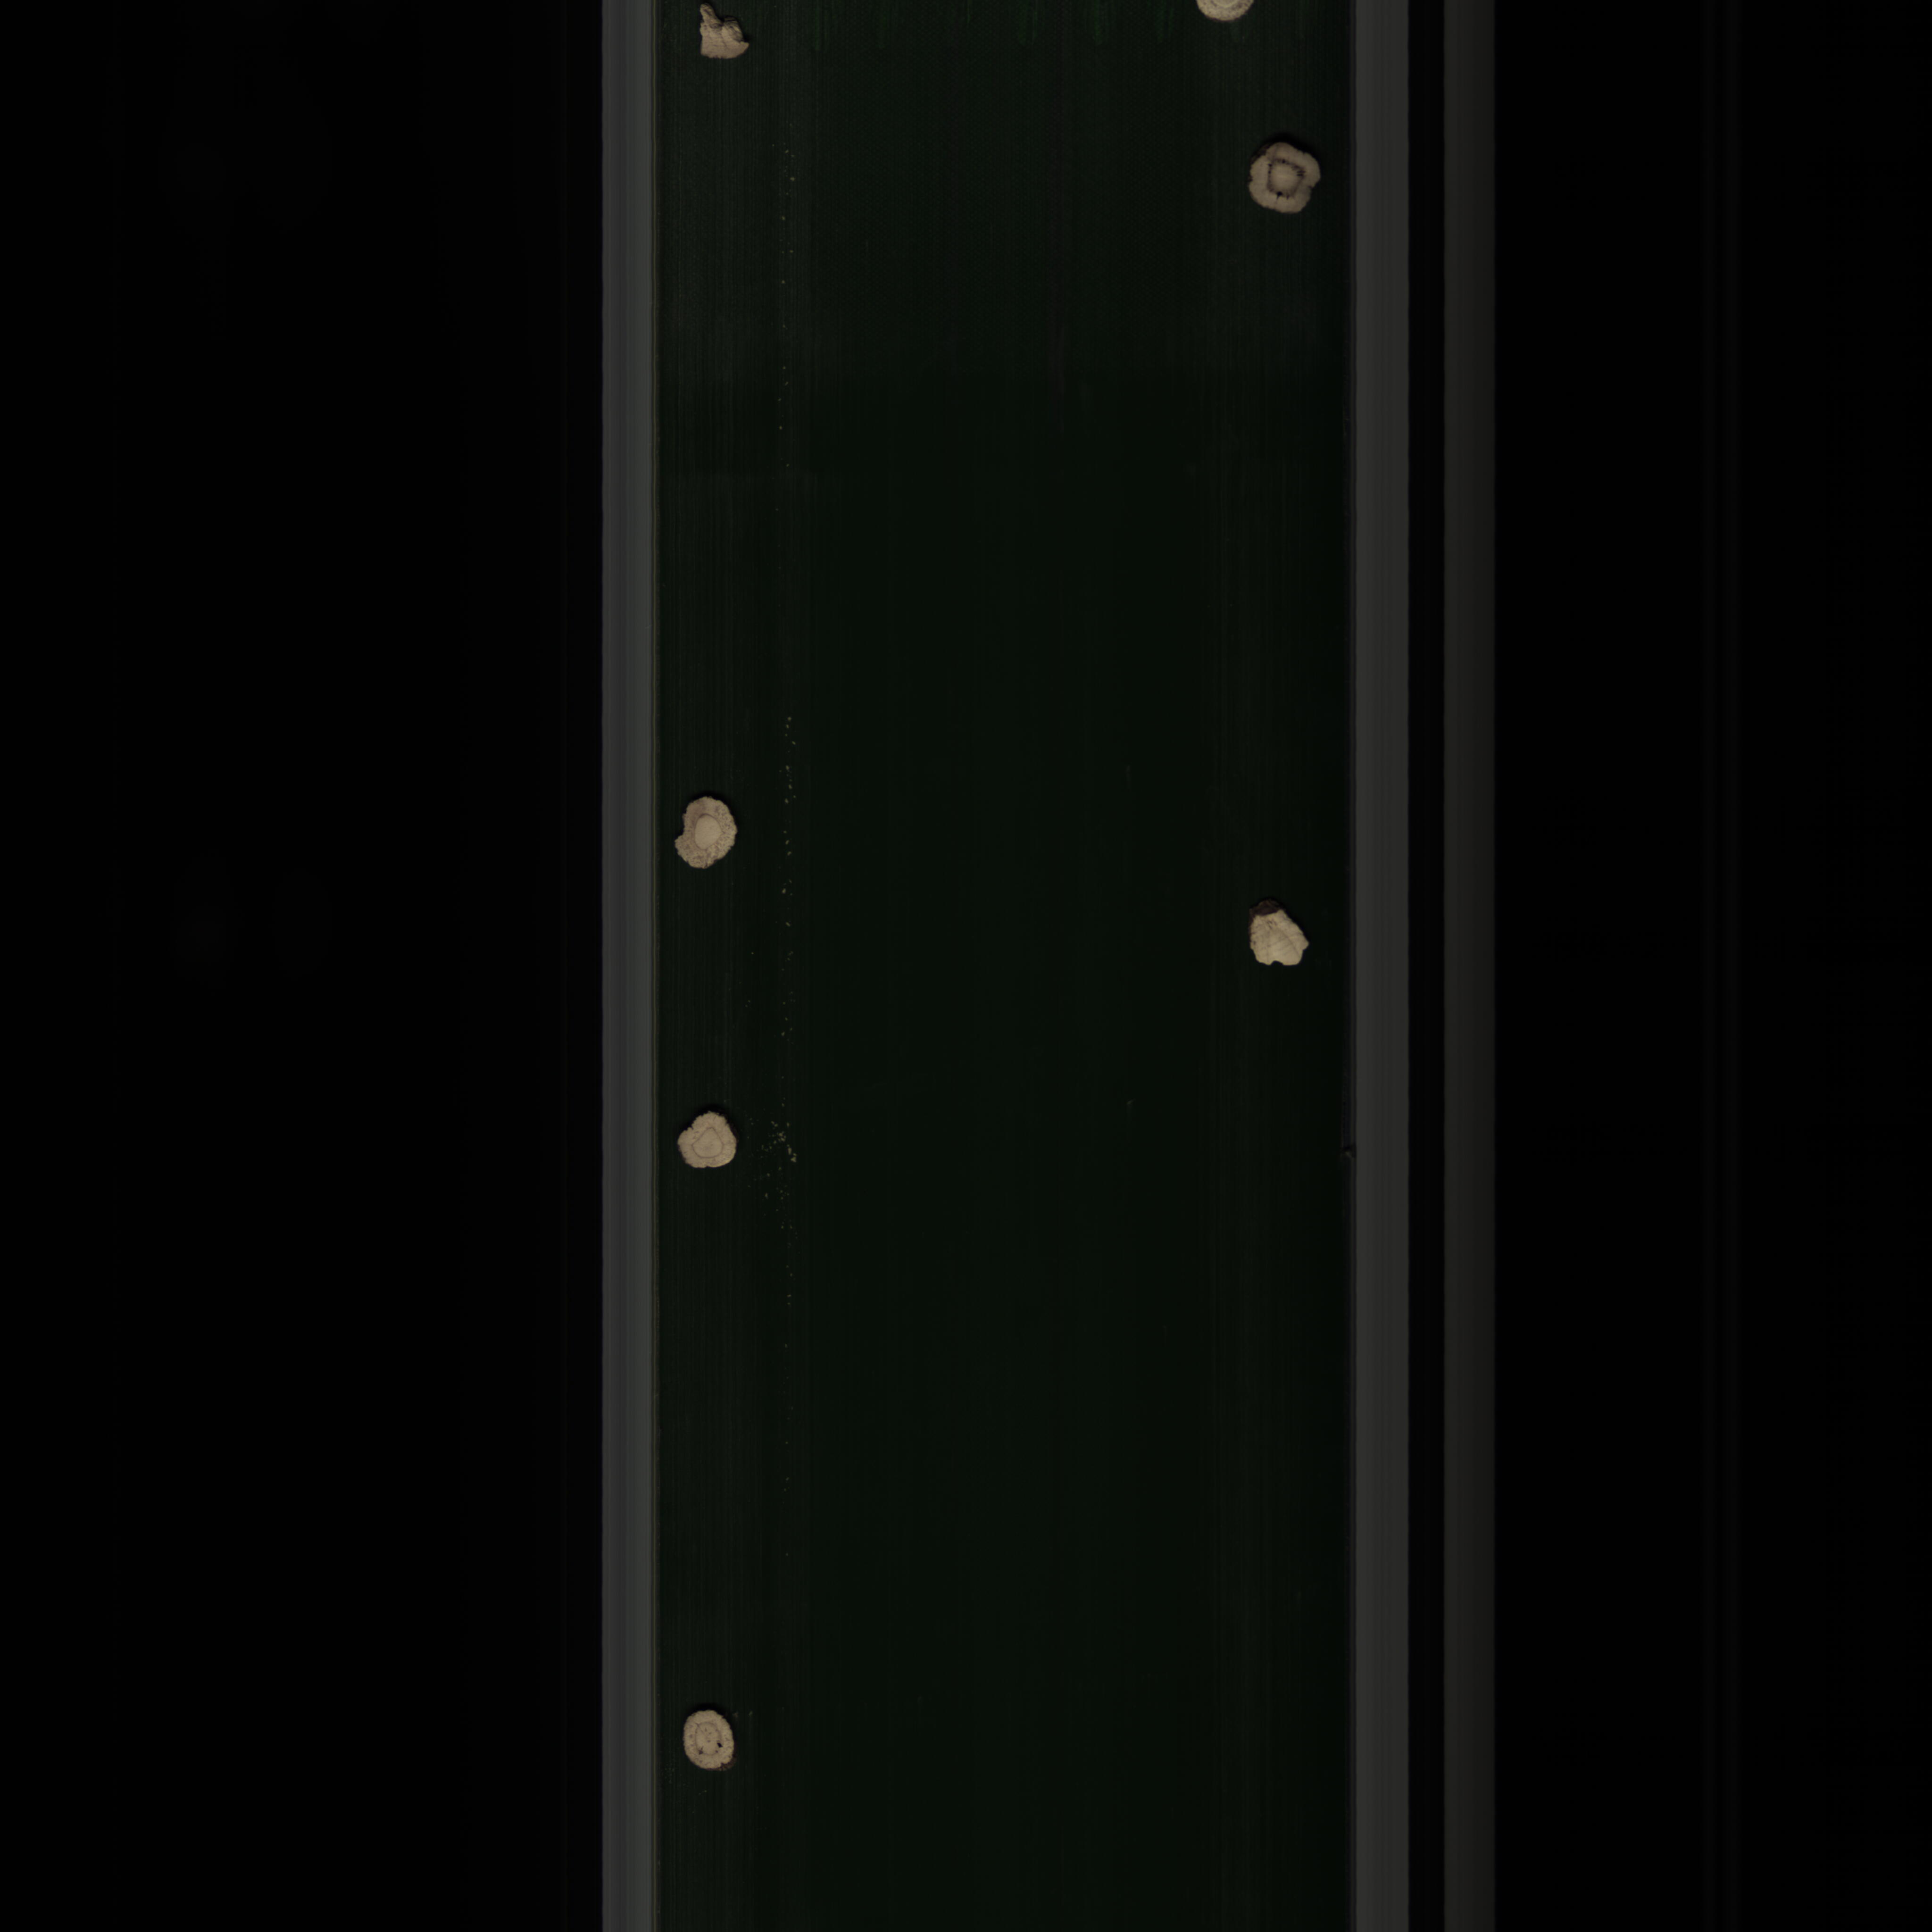debris: (1233, 897, 1323, 989), (660, 793, 750, 881), (686, 7, 770, 81)
hole: (672, 1706, 747, 1780)
moldy: (1246, 131, 1330, 228)
